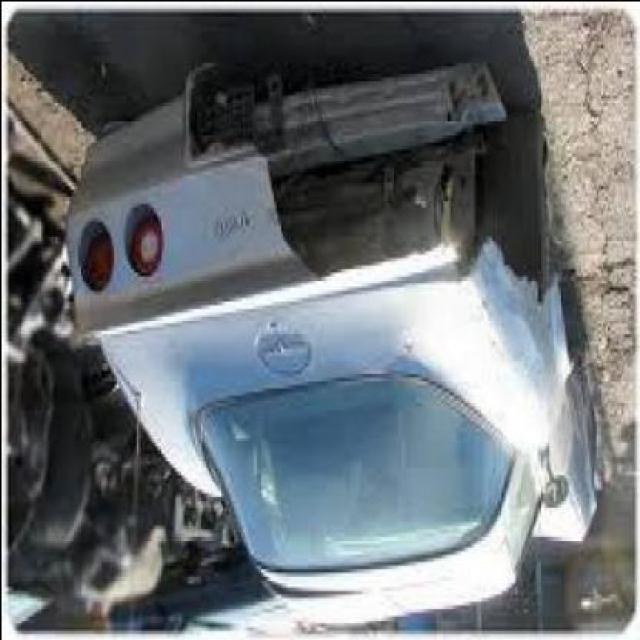damage: (201, 57, 562, 306)
